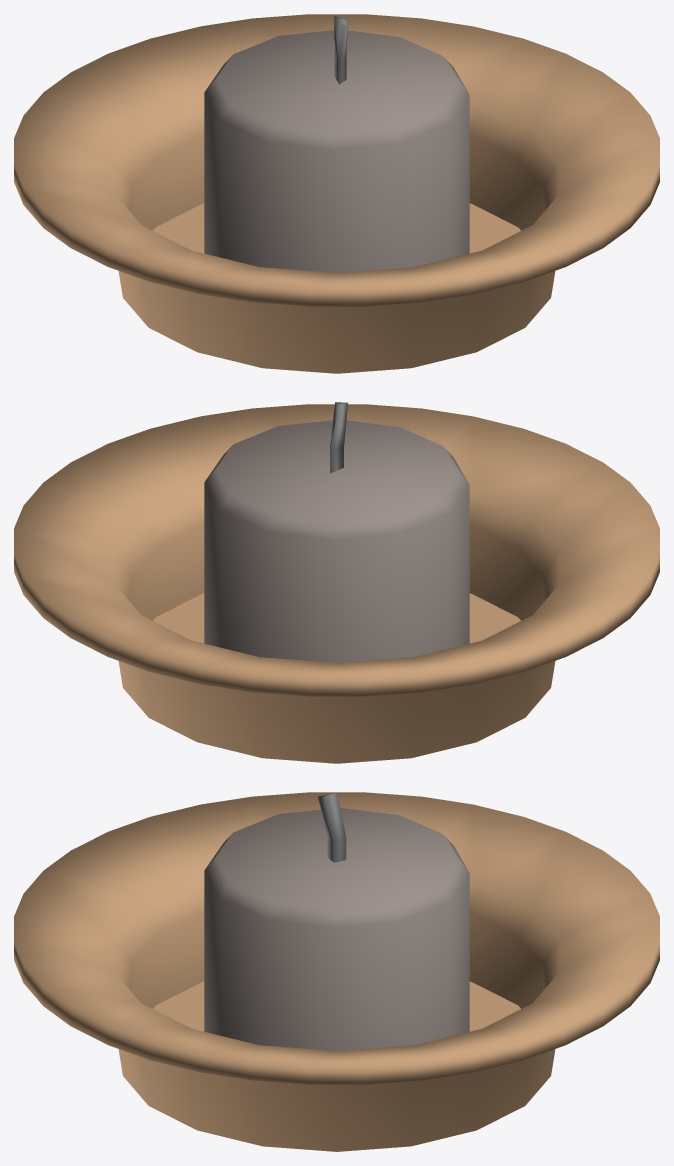
Rendered from DI_055_candle_on_plate.glb.
3 renders of one model, top to bottom at view 1: azimuth 30°, elevation 25°; view 2: azimuth 150°, elevation 25°; view 3: azimuth 270°, elevation 25°, orthographic.
Visible parts, largest first — view 1: plate, Candle, Fuse; view 2: plate, Candle, Fuse; view 3: plate, Candle, Fuse.
Part boxes in pixels (box(x1,y1,x2,y2)): plate: box(14, 14, 659, 373); Candle: box(204, 30, 469, 272); Fuse: box(334, 16, 347, 84); plate: box(14, 404, 659, 763); Candle: box(204, 420, 469, 662); Fuse: box(330, 402, 348, 473); plate: box(14, 792, 659, 1151); Candle: box(204, 808, 469, 1050); Fuse: box(318, 792, 346, 862).
Bounding box in the file's own units: 0.7174 × 0.3266 × 0.717.
